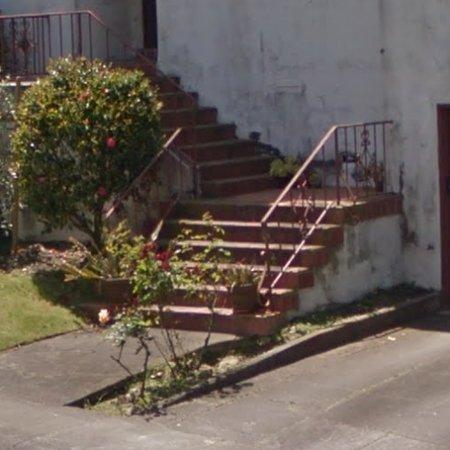stairs: (162, 190, 402, 337), (145, 67, 276, 198), (164, 289, 211, 332)
